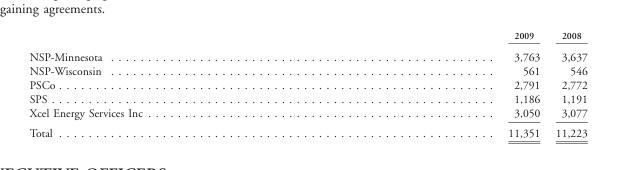table: (28, 29, 586, 139)
table column: (28, 29, 324, 139), (324, 29, 547, 139), (547, 29, 586, 139)
table column header: (28, 29, 586, 45)
table row: (28, 45, 586, 63), (28, 122, 586, 139), (28, 29, 586, 45), (28, 106, 586, 122), (28, 91, 586, 106), (28, 63, 586, 77), (28, 77, 586, 91)
